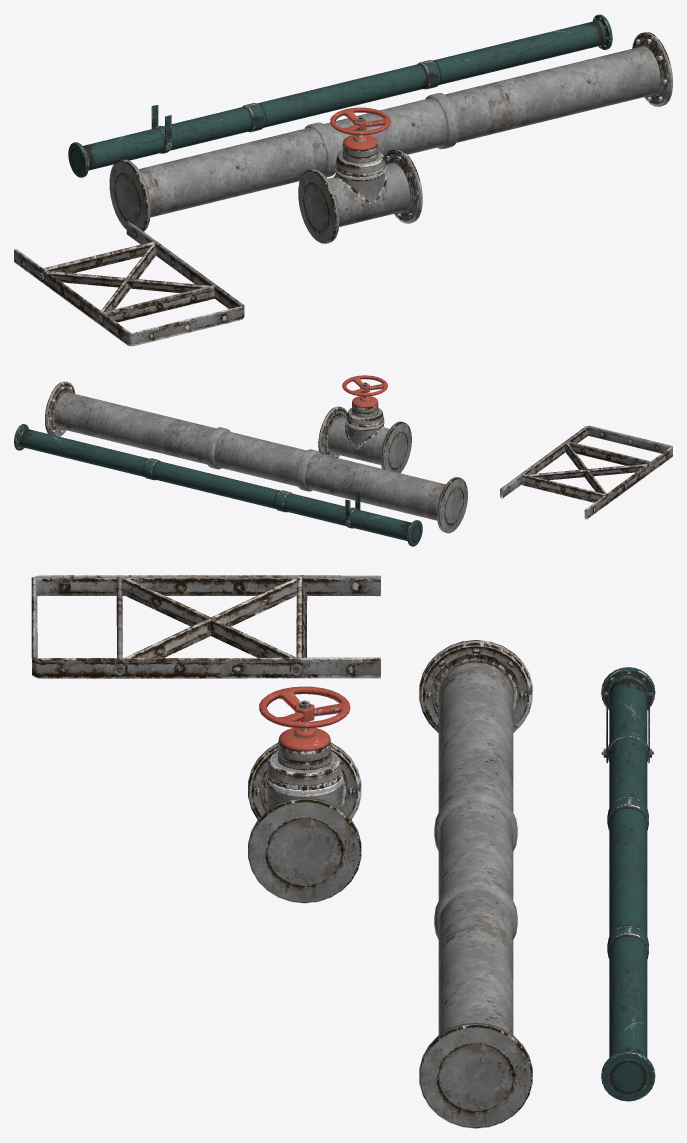
Rendered from tubulacoes_industriais.glb.
3 renders of one model, top to bottom at view 1: azimuth 30°, elevation 25°; view 2: azimuth 150°, elevation 25°; view 3: azimuth 270°, elevation 25°, orthographic. The views are drawn at different scales.
Parts seen in each view (by area): view 1: ind_pipe_medium_01_long_inst_001/ind_pipe_medium_01_long_ins, ind_pipe_small_01_long_inst_001/ind_pipe_small_01_long_inst_, ind_pipe_medium_01_frame_01_inst_001/ind_pipe_medium_01_fram, ind_pipe_medium_01_valve_01_inst_001/ind_pipe_medium_01_valv, ind_pipe_small_01_frame_01_inst_001/ind_pipe_small_01_frame_; view 2: ind_pipe_medium_01_long_inst_001/ind_pipe_medium_01_long_ins, ind_pipe_small_01_long_inst_001/ind_pipe_small_01_long_inst_, ind_pipe_medium_01_frame_01_inst_001/ind_pipe_medium_01_fram, ind_pipe_medium_01_valve_01_inst_001/ind_pipe_medium_01_valv, ind_pipe_small_01_frame_01_inst_001/ind_pipe_small_01_frame_; view 3: ind_pipe_medium_01_long_inst_001/ind_pipe_medium_01_long_ins, ind_pipe_medium_01_frame_01_inst_001/ind_pipe_medium_01_fram, ind_pipe_medium_01_valve_01_inst_001/ind_pipe_medium_01_valv, ind_pipe_small_01_long_inst_001/ind_pipe_small_01_long_inst_.
Part boxes in pixels (x1=…): ind_pipe_medium_01_long_inst_001/ind_pipe_medium_01_long_ins: x1=109, y1=32, x2=672, y2=231; ind_pipe_small_01_long_inst_001/ind_pipe_small_01_long_inst_: x1=68, y1=14, x2=612, y2=177; ind_pipe_medium_01_frame_01_inst_001/ind_pipe_medium_01_fram: x1=14, y1=221, x2=244, y2=346; ind_pipe_medium_01_valve_01_inst_001/ind_pipe_medium_01_valv: x1=298, y1=107, x2=422, y2=243; ind_pipe_small_01_frame_01_inst_001/ind_pipe_small_01_frame_: x1=151, y1=105, x2=172, y2=153; ind_pipe_medium_01_long_inst_001/ind_pipe_medium_01_long_ins: x1=45, y1=381, x2=467, y2=533; ind_pipe_small_01_long_inst_001/ind_pipe_small_01_long_inst_: x1=14, y1=424, x2=422, y2=546; ind_pipe_medium_01_frame_01_inst_001/ind_pipe_medium_01_fram: x1=500, y1=425, x2=672, y2=519; ind_pipe_medium_01_valve_01_inst_001/ind_pipe_medium_01_valv: x1=318, y1=375, x2=411, y2=473; ind_pipe_small_01_frame_01_inst_001/ind_pipe_small_01_frame_: x1=345, y1=492, x2=360, y2=528; ind_pipe_medium_01_long_inst_001/ind_pipe_medium_01_long_ins: x1=419, y1=640, x2=532, y2=1128; ind_pipe_medium_01_frame_01_inst_001/ind_pipe_medium_01_fram: x1=31, y1=575, x2=380, y2=678; ind_pipe_medium_01_valve_01_inst_001/ind_pipe_medium_01_valv: x1=248, y1=686, x2=361, y2=903; ind_pipe_small_01_long_inst_001/ind_pipe_small_01_long_inst_: x1=601, y1=667, x2=655, y2=1101.
Bounding box in the file's own units: 7.7 × 1.24 × 4.1.
3 materials, 2 textured.
